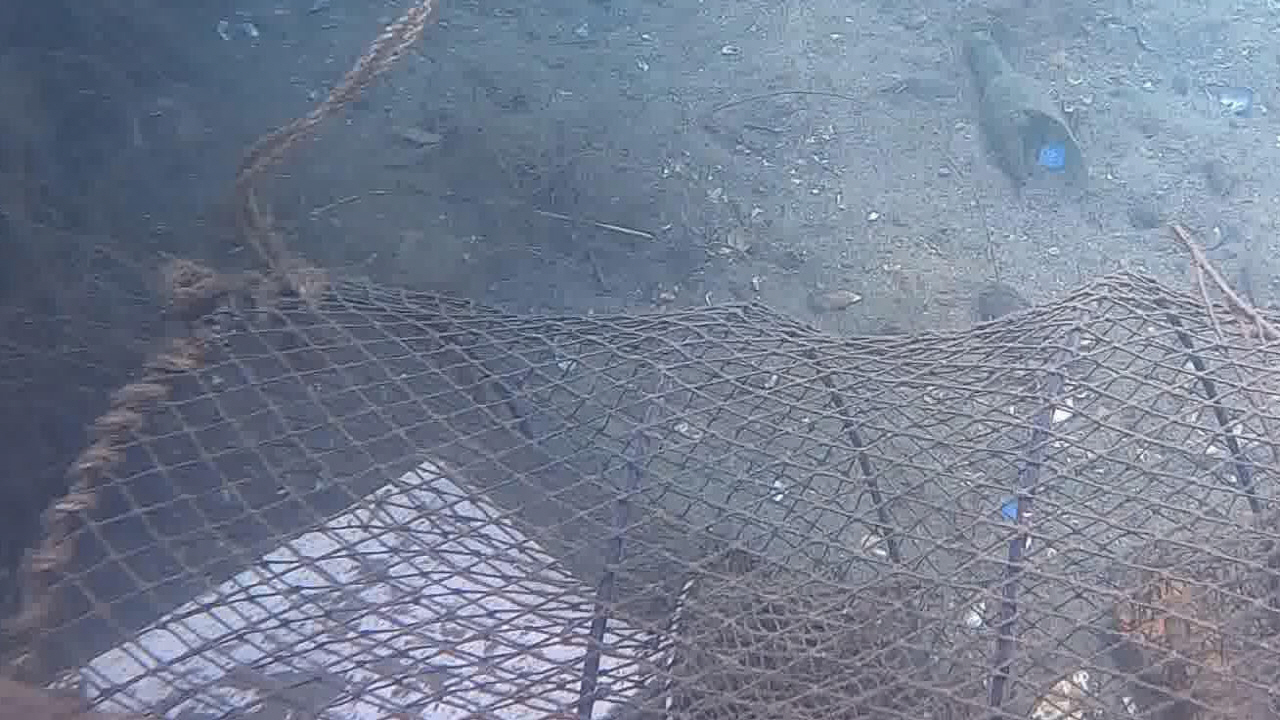bundle of ropes: (226, 0, 436, 273)
spring fish trap: (0, 269, 1280, 720)
